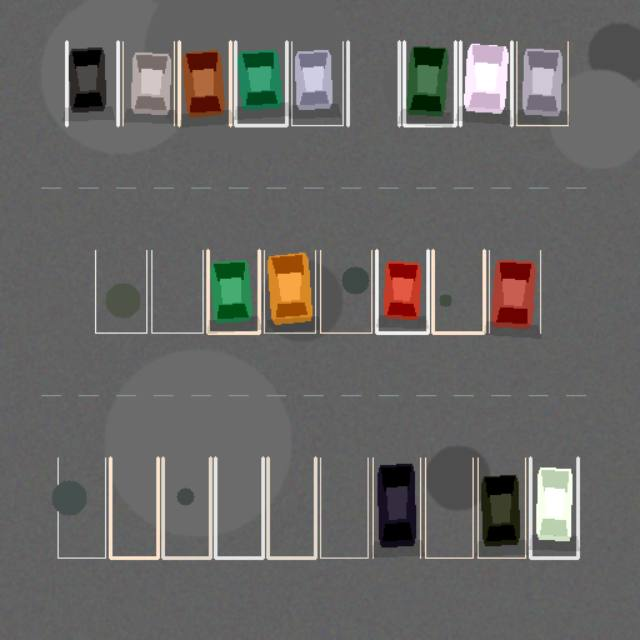space-empty: (57, 458, 105, 558), (215, 458, 263, 558), (267, 458, 315, 558), (425, 458, 473, 558), (110, 458, 157, 558), (163, 458, 210, 558), (320, 458, 367, 558), (348, 41, 399, 125), (432, 250, 484, 332), (95, 250, 146, 332), (151, 250, 202, 332), (320, 250, 371, 332)
space-occupied: (477, 458, 525, 558), (373, 458, 420, 558), (530, 458, 577, 558), (66, 41, 118, 125), (122, 41, 174, 125), (516, 41, 568, 125), (179, 41, 230, 125), (235, 41, 286, 125), (291, 41, 342, 125), (404, 41, 455, 125), (460, 41, 511, 125), (376, 250, 428, 332), (208, 250, 259, 332), (264, 250, 315, 332), (489, 250, 540, 332)
